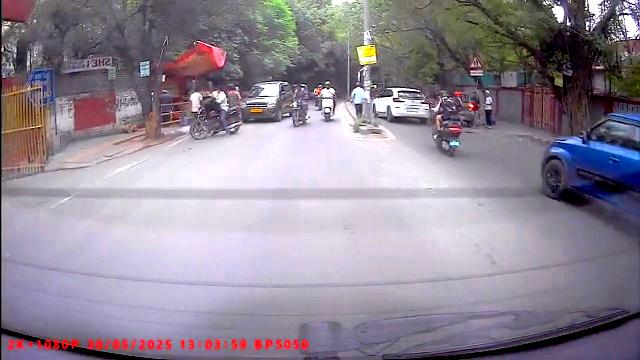motorcycle_with_helmet: (430, 86, 465, 159), (319, 80, 337, 122)
motorcycle_without_helmet: (289, 82, 311, 128)
